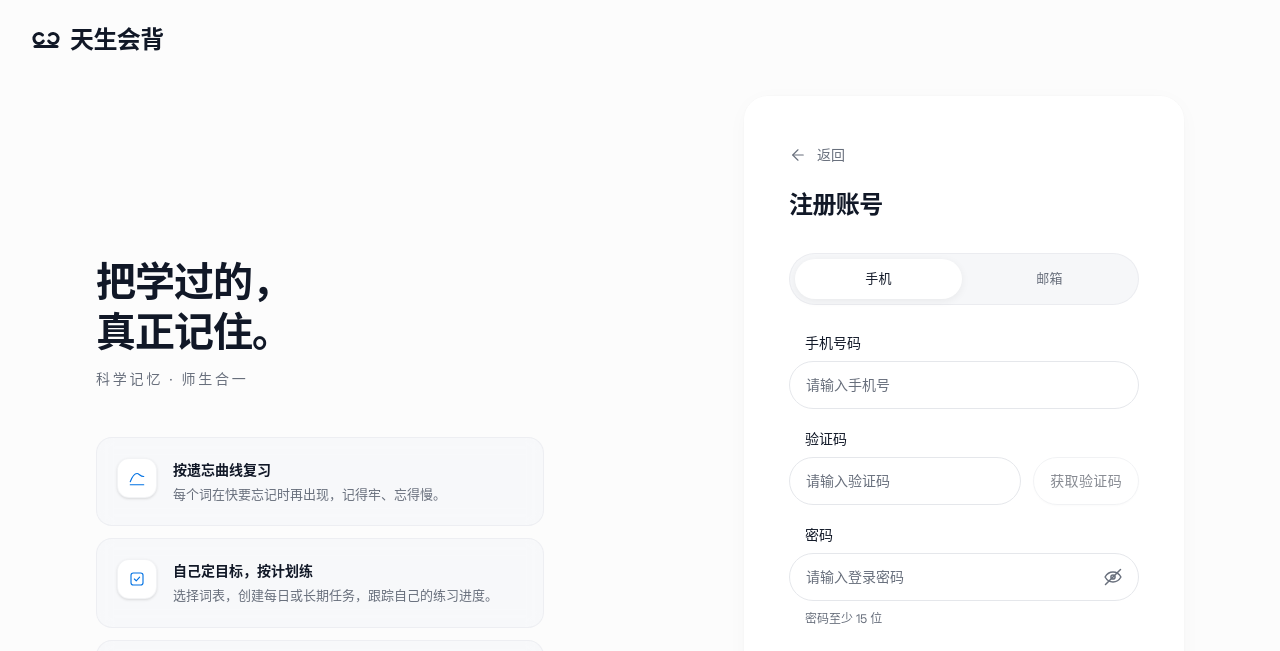
Test case: RegisterForm — 手机号验证码注册 › 手机号和邮箱注册入口均可用
Expected: the field with placeholder "请输入手机号" is shown, left=789, top=361, right=1139, bottom=409
Click the tab "邮箱": coordinates (1050, 279) left=966, top=259, right=1133, bottom=299
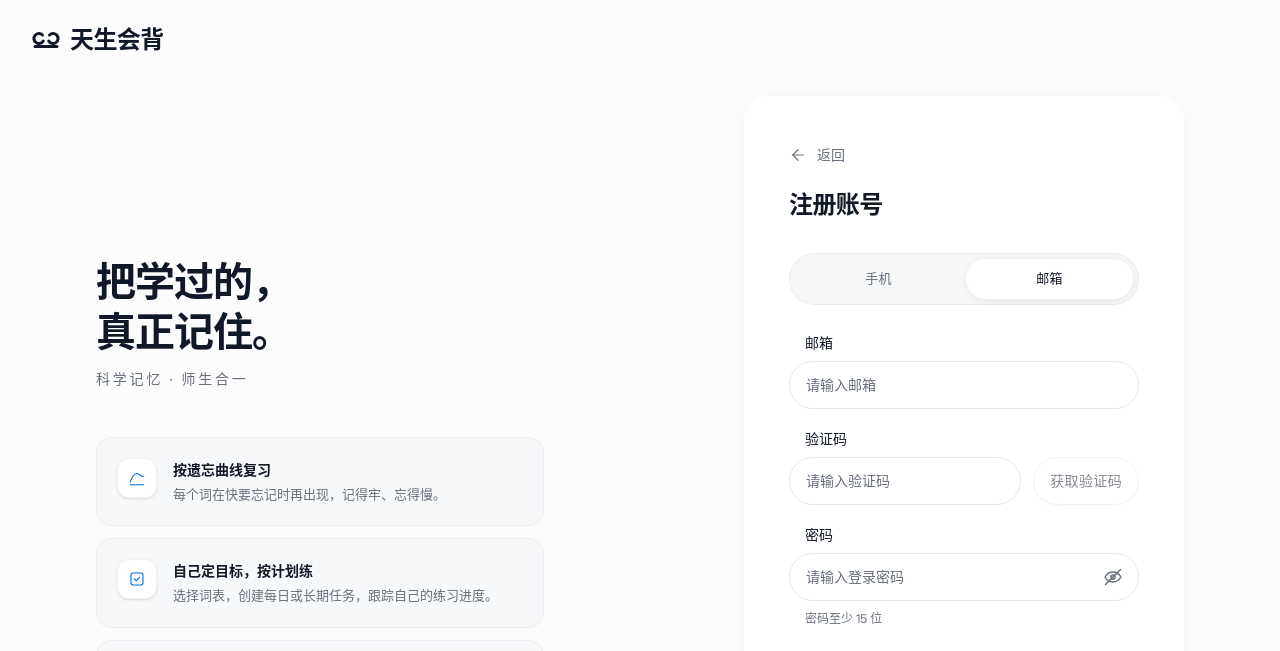
Expected: the field with placeholder "请输入手机号" is not shown
Expected: the field with placeholder "请输入邮箱" is shown, left=789, top=361, right=1139, bottom=409
